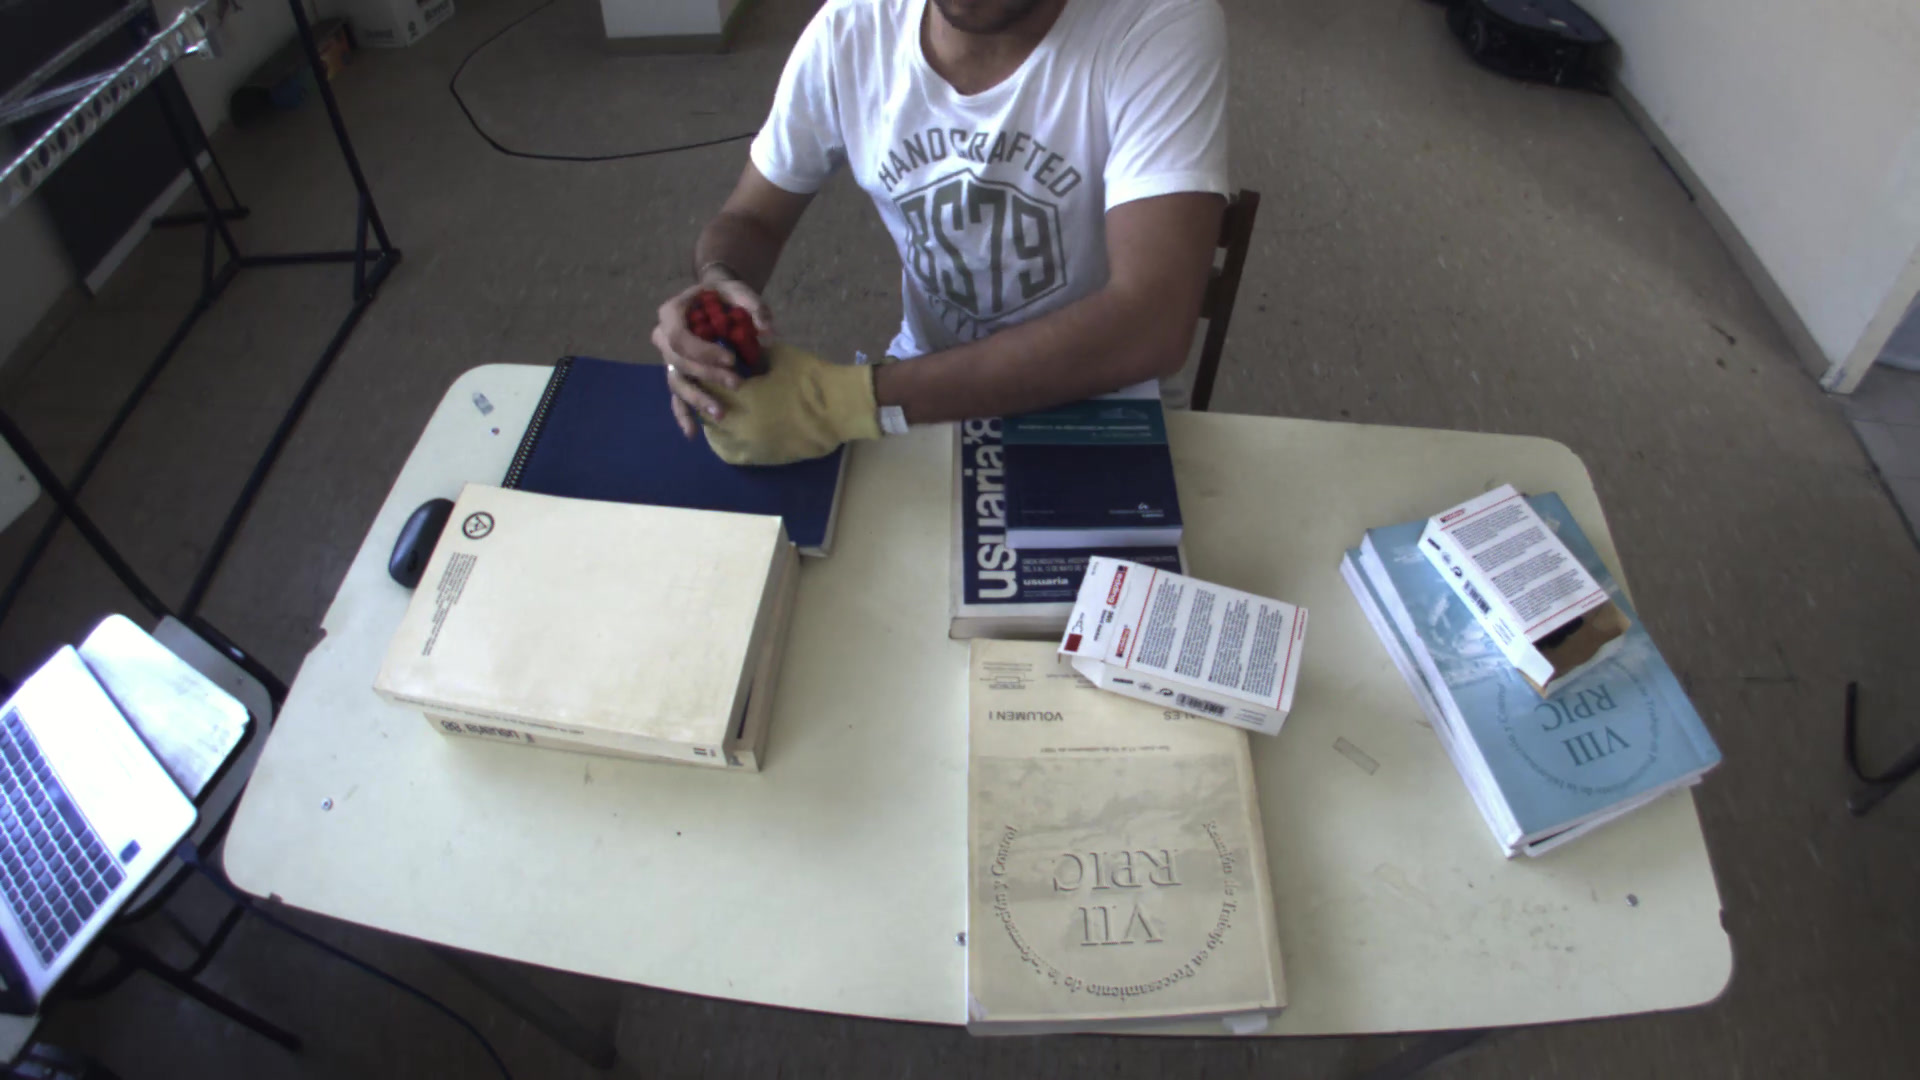hand: (711, 345, 884, 467), (647, 268, 775, 431)
